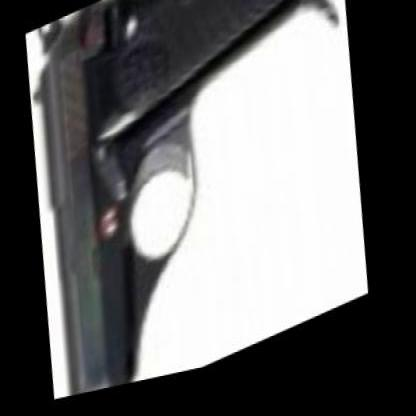pistol: (9, 0, 357, 411)
